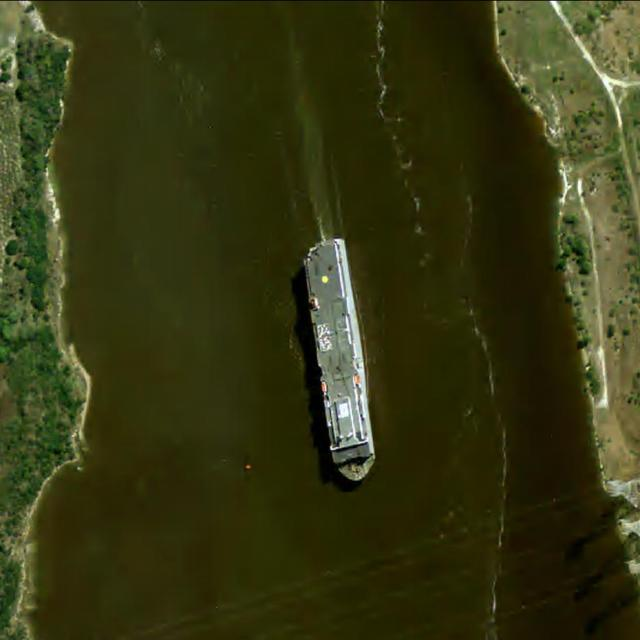RoRo: (293, 230, 384, 491)
